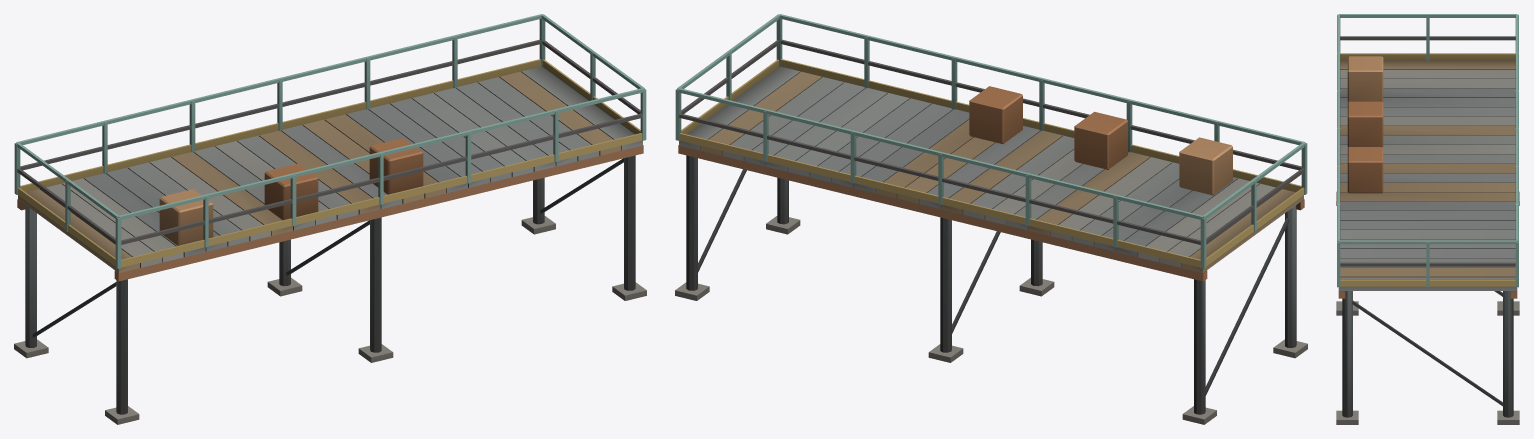
The model's file is deck_long.glb.
The picture shows the model from 3 angles, left to right: view 1: azimuth 30°, elevation 25°; view 2: azimuth 150°, elevation 25°; view 3: azimuth 270°, elevation 25°; orthographic projection. The views are drawn at different scales.
Parts seen in each view (by area): view 1: deck_long; view 2: deck_long; view 3: deck_long.
Boxes of the visible parts, x1,y1,x2,y2 form: deck_long: (14, 14, 646, 424); deck_long: (675, 14, 1307, 424); deck_long: (1336, 14, 1519, 424).
Size of the model in its own units: 12.1 by 4.52 by 4.1.
